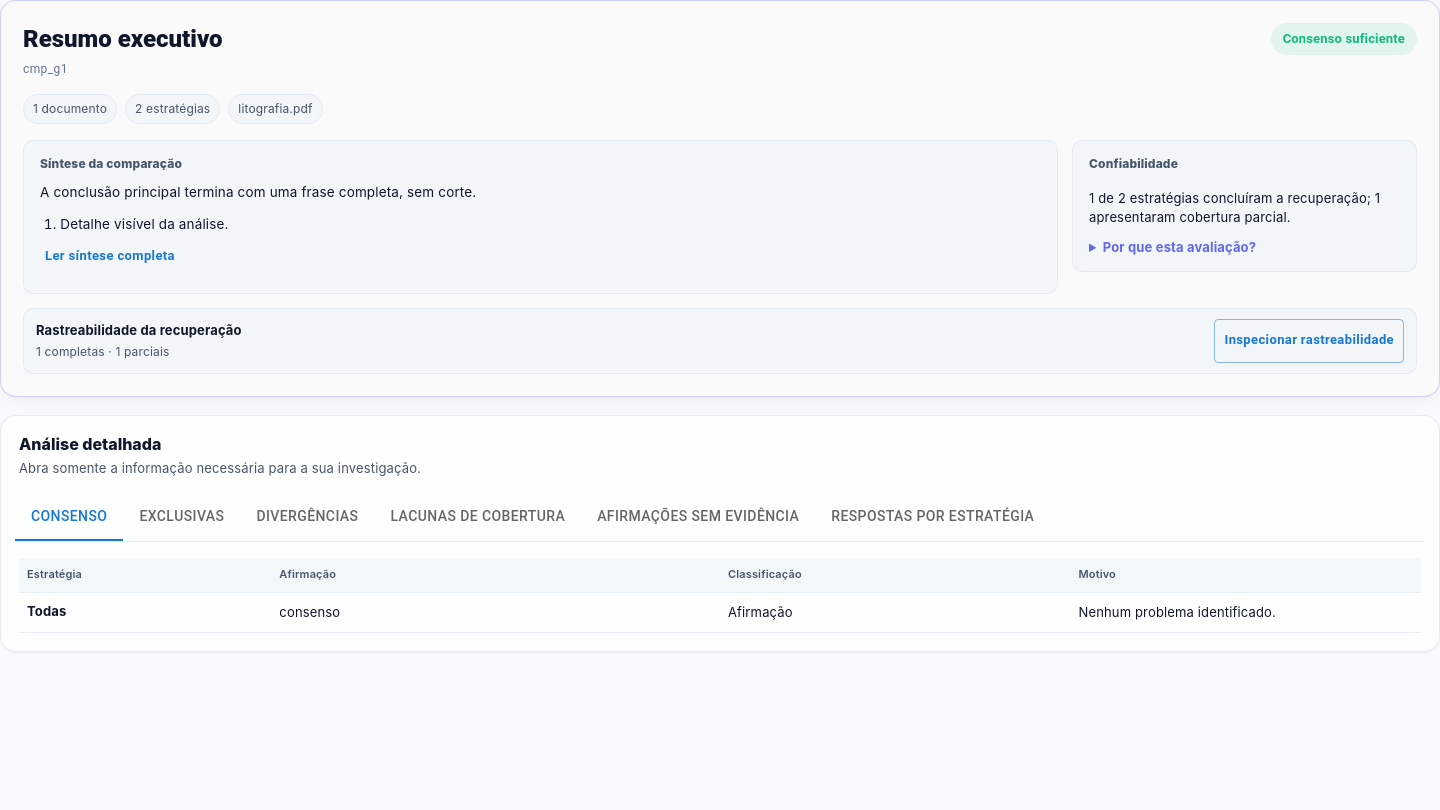
Grade visual da comparação (ComparisonDetailGrid) › expande e recolhe síntese e avaliação juntas mantendo blocos separados
Expected: the text "A conclusão principal termina com uma frase completa, sem corte." is shown, top-left (40, 184), bottom-right (476, 200)
Expected: the list item "Detalhe visível da análise." is shown, top-left (60, 216), bottom-right (229, 232)
What coordinates should you click on to do the following:
click the button "Ler síntese completa"
I would click on:
 (110, 257)
Its box is top-left (40, 235), bottom-right (180, 279).
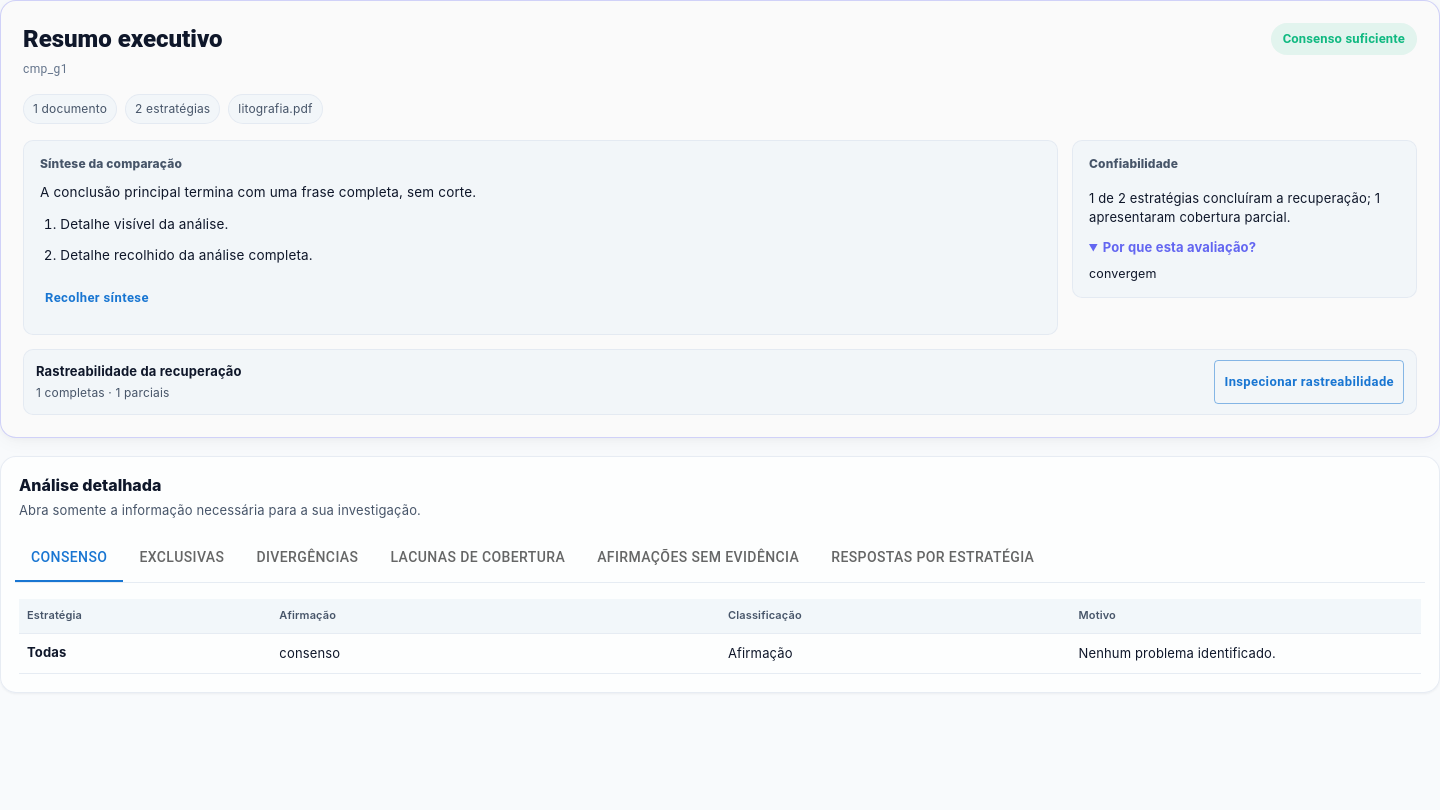
Expected: the text "Detalhe recolhido da análise completa." is shown, top-left (60, 247), bottom-right (313, 263)
Expected: the text "convergem" is shown, top-left (1089, 266), bottom-right (1157, 281)
What coordinates should you click on to do the following:
click the heading "Por que esta avaliação?"
I would click on:
 (1180, 247)
Its box is top-left (1103, 239), bottom-right (1256, 255).
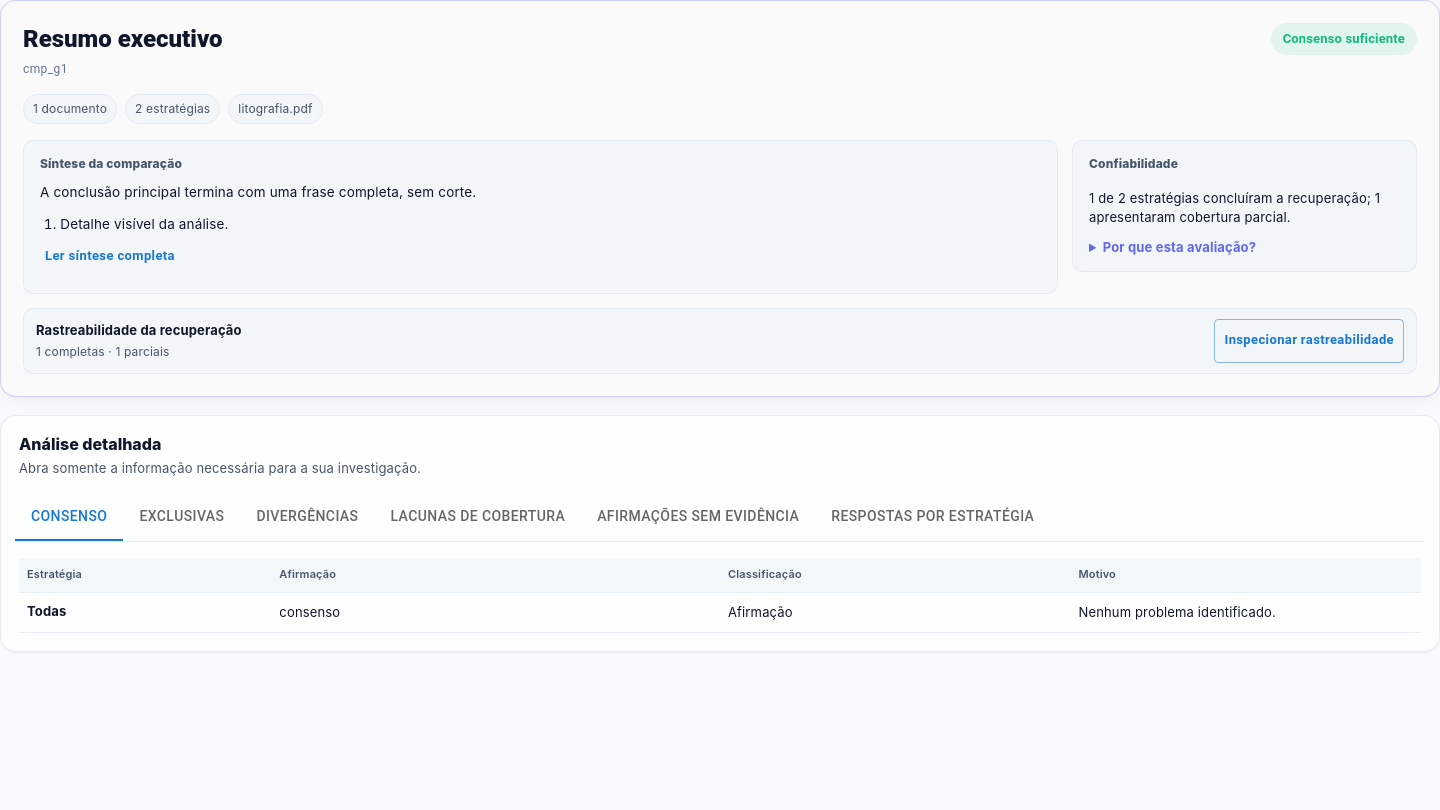
Expected: the text "Detalhe recolhido da análise completa." is gone
